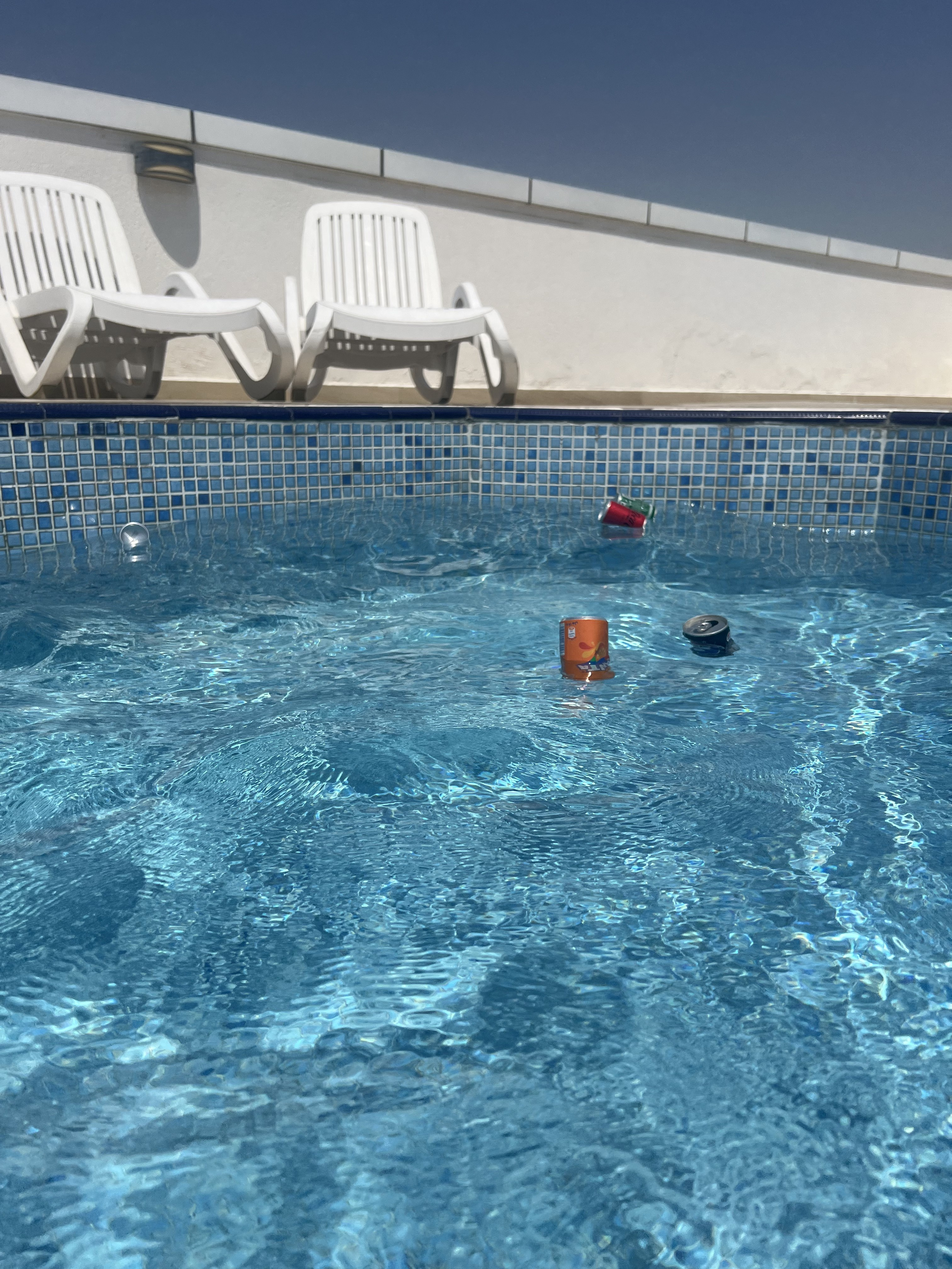debris: (551, 599, 615, 707), (677, 595, 734, 677), (595, 494, 650, 547), (613, 480, 654, 530), (115, 511, 150, 566)
